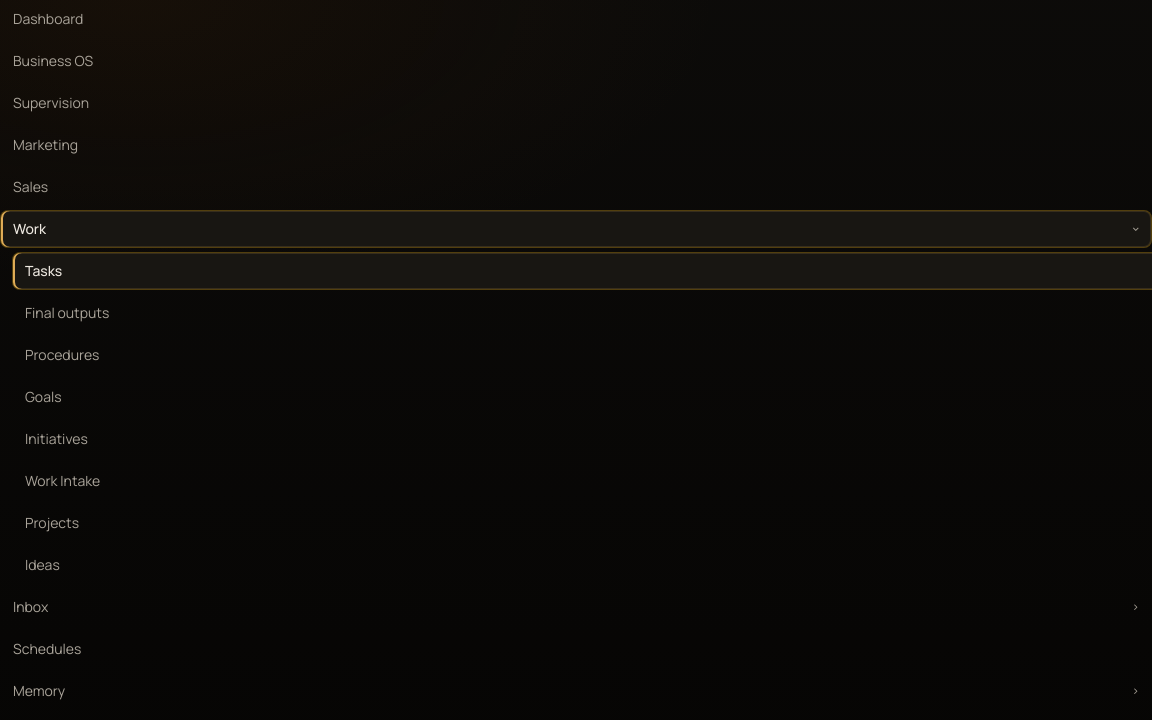
Test: <NavLinks> › uses top-level groups as disclosure buttons instead of links to first child pages
The image size is (1152, 720).
Expected: the link "Setup" is not shown
Expected: the link "Quality feedback" is not shown
Click the button "Inbox ›": (31, 606) [0, 588, 1151, 626]
(page scrolled)
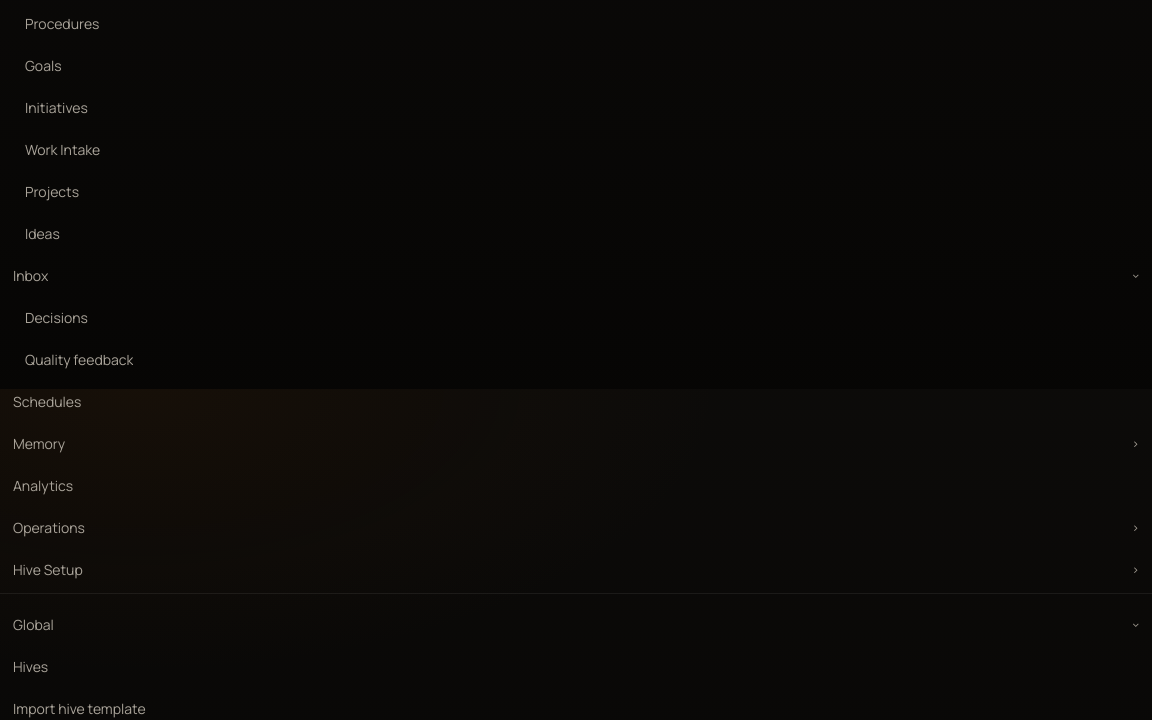
Expected: the button "Inbox ›" is expanded, [0, 257, 1151, 295]
